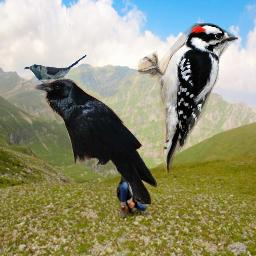Crow: (33, 79, 158, 206)
Cuckoo: (24, 54, 88, 86)
Woodpecker: (138, 23, 238, 173)
